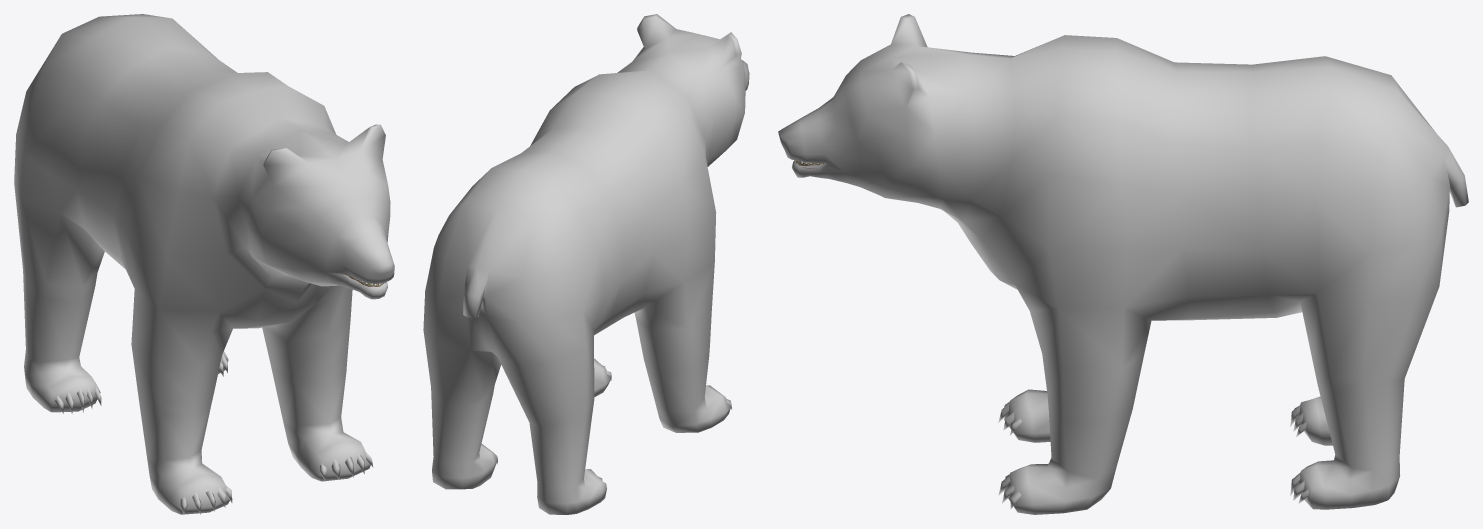
File: bear.obj
3 renders of one model, left to right at view 1: azimuth 30°, elevation 25°; view 2: azimuth 150°, elevation 25°; view 3: azimuth 270°, elevation 25°, orthographic. The views are drawn at different scales.
Parts seen in each view (by area): view 1: bear____N; view 2: bear____N; view 3: bear____N.
Part boxes in pixels (box(x1,y1,x2,y2)): bear____N: box(14, 14, 394, 514); bear____N: box(423, 14, 749, 514); bear____N: box(778, 14, 1468, 514).
Bounding box in the file's own units: 10.24 × 19.71 × 28.84.
